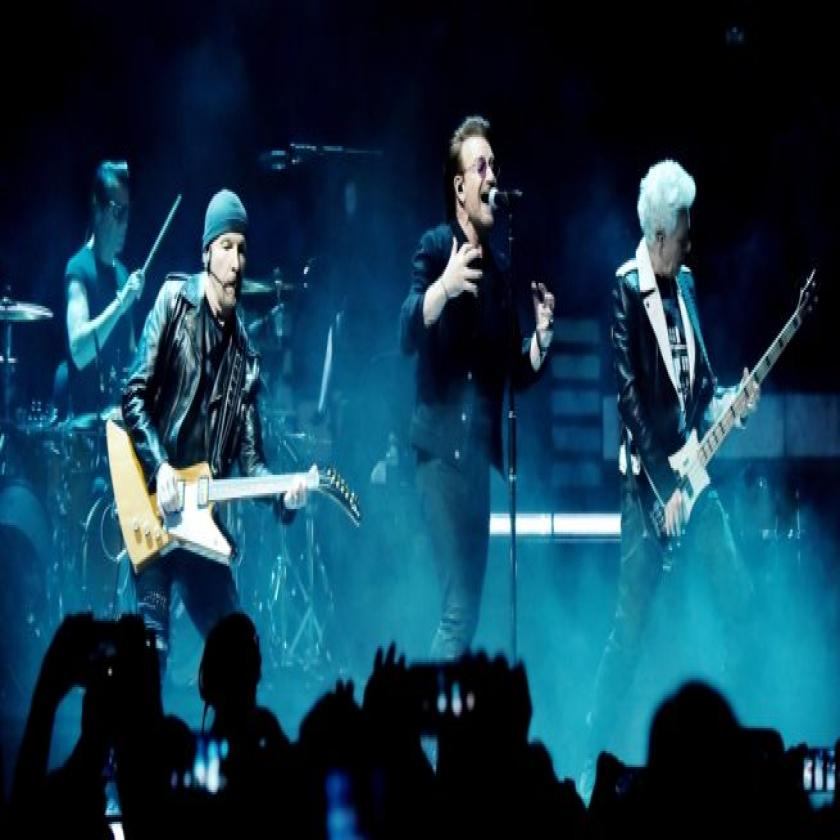Sin_casco: (635, 154, 701, 289), (445, 108, 508, 244), (91, 153, 136, 270)
